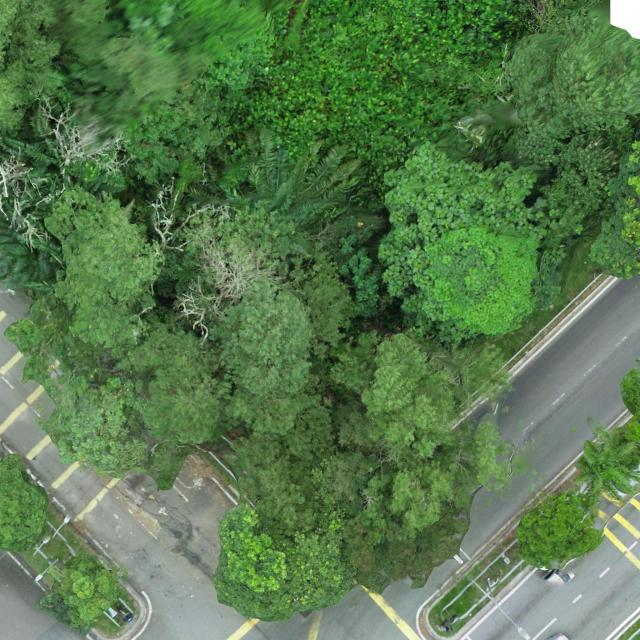Tree: (6, 178, 360, 489), (230, 328, 516, 594), (378, 140, 546, 353), (185, 125, 388, 259), (214, 499, 348, 623), (515, 490, 604, 572), (36, 553, 121, 636), (0, 452, 48, 553), (574, 436, 640, 504)
